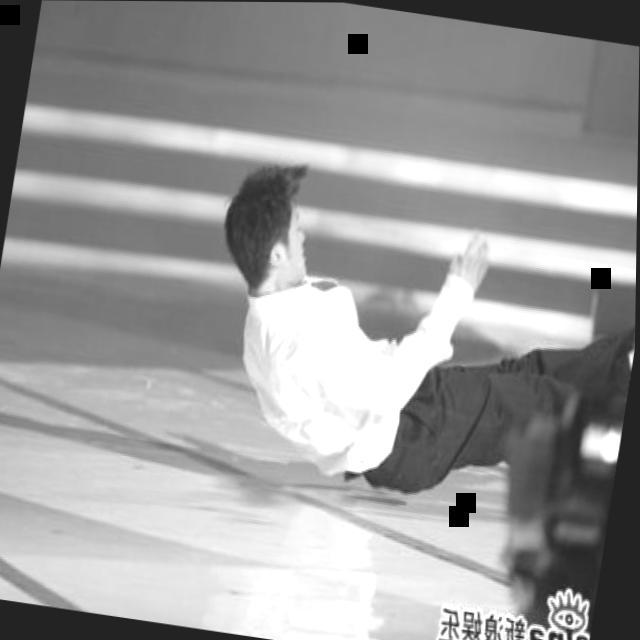Fall-Detected: (195, 127, 639, 558)
